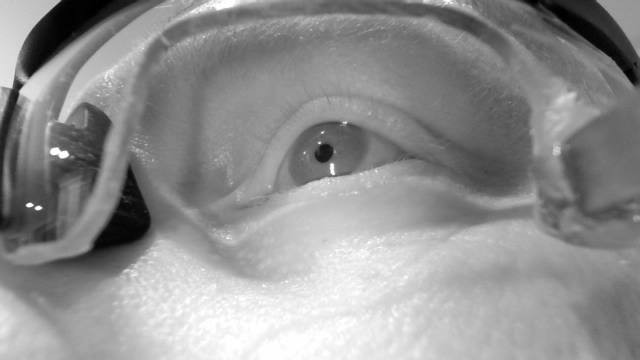pupil: (313, 143, 334, 163)
